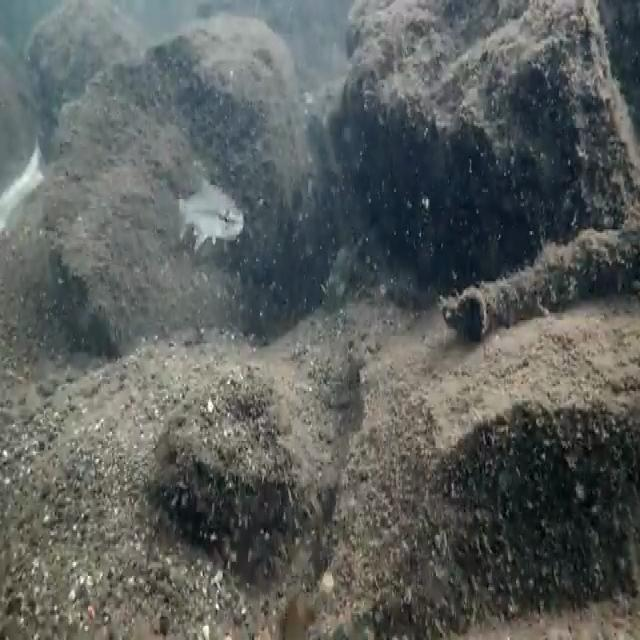Cakil Baligi: (154, 173, 248, 248)
